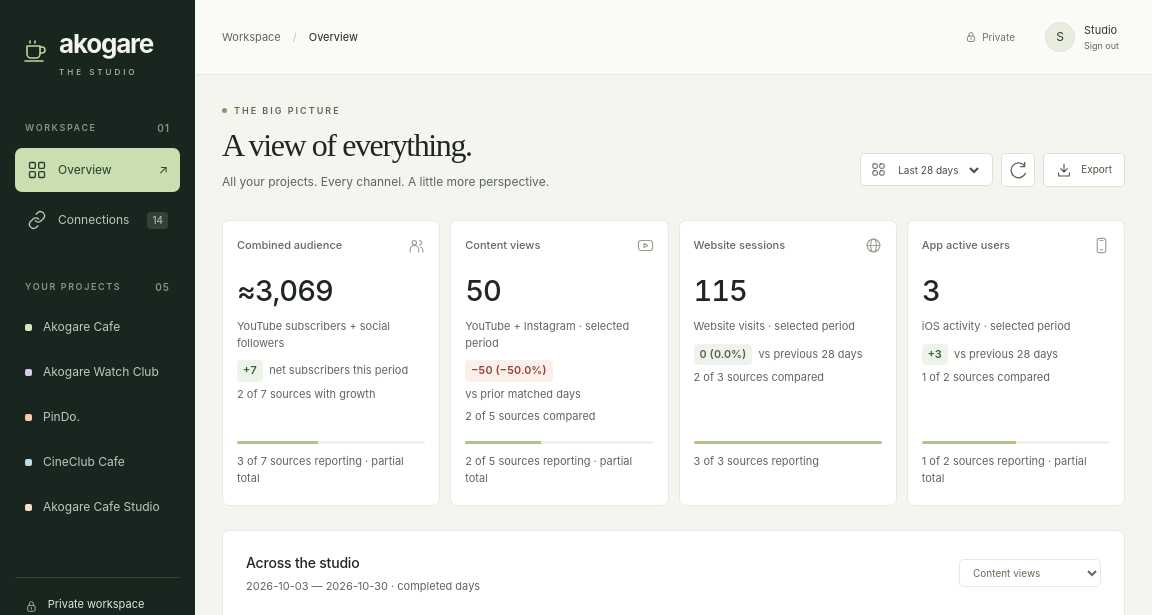
Test: summary changes show net subscribers and signed counts with explicit partial coverage
Expected: the element with class "studio-stat" shows "2 of 7 sources with growth", [237,387,375,401]
Expected: the element with class "studio-stat" shows "−50 (−50.0%)", [450,220,669,506]
Select "Last 1 day" in the dropdown named "Reporting period" at (938, 170), box [894,163,982,177]
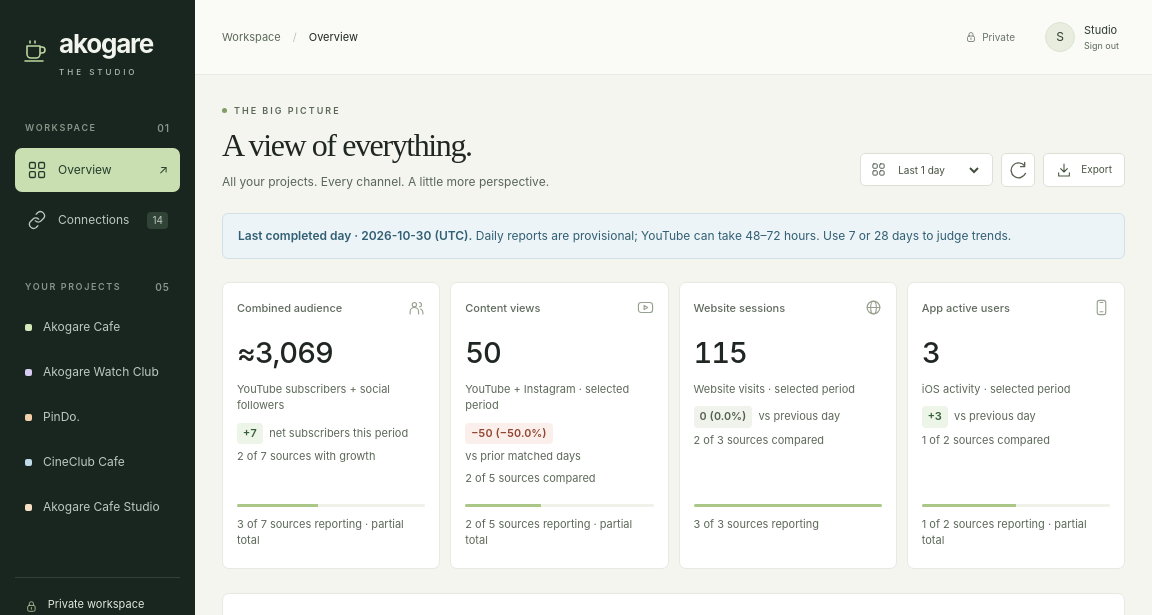
Result: the element with class "studio-stat" shows "vs previous day" at [758,409,840,423]
